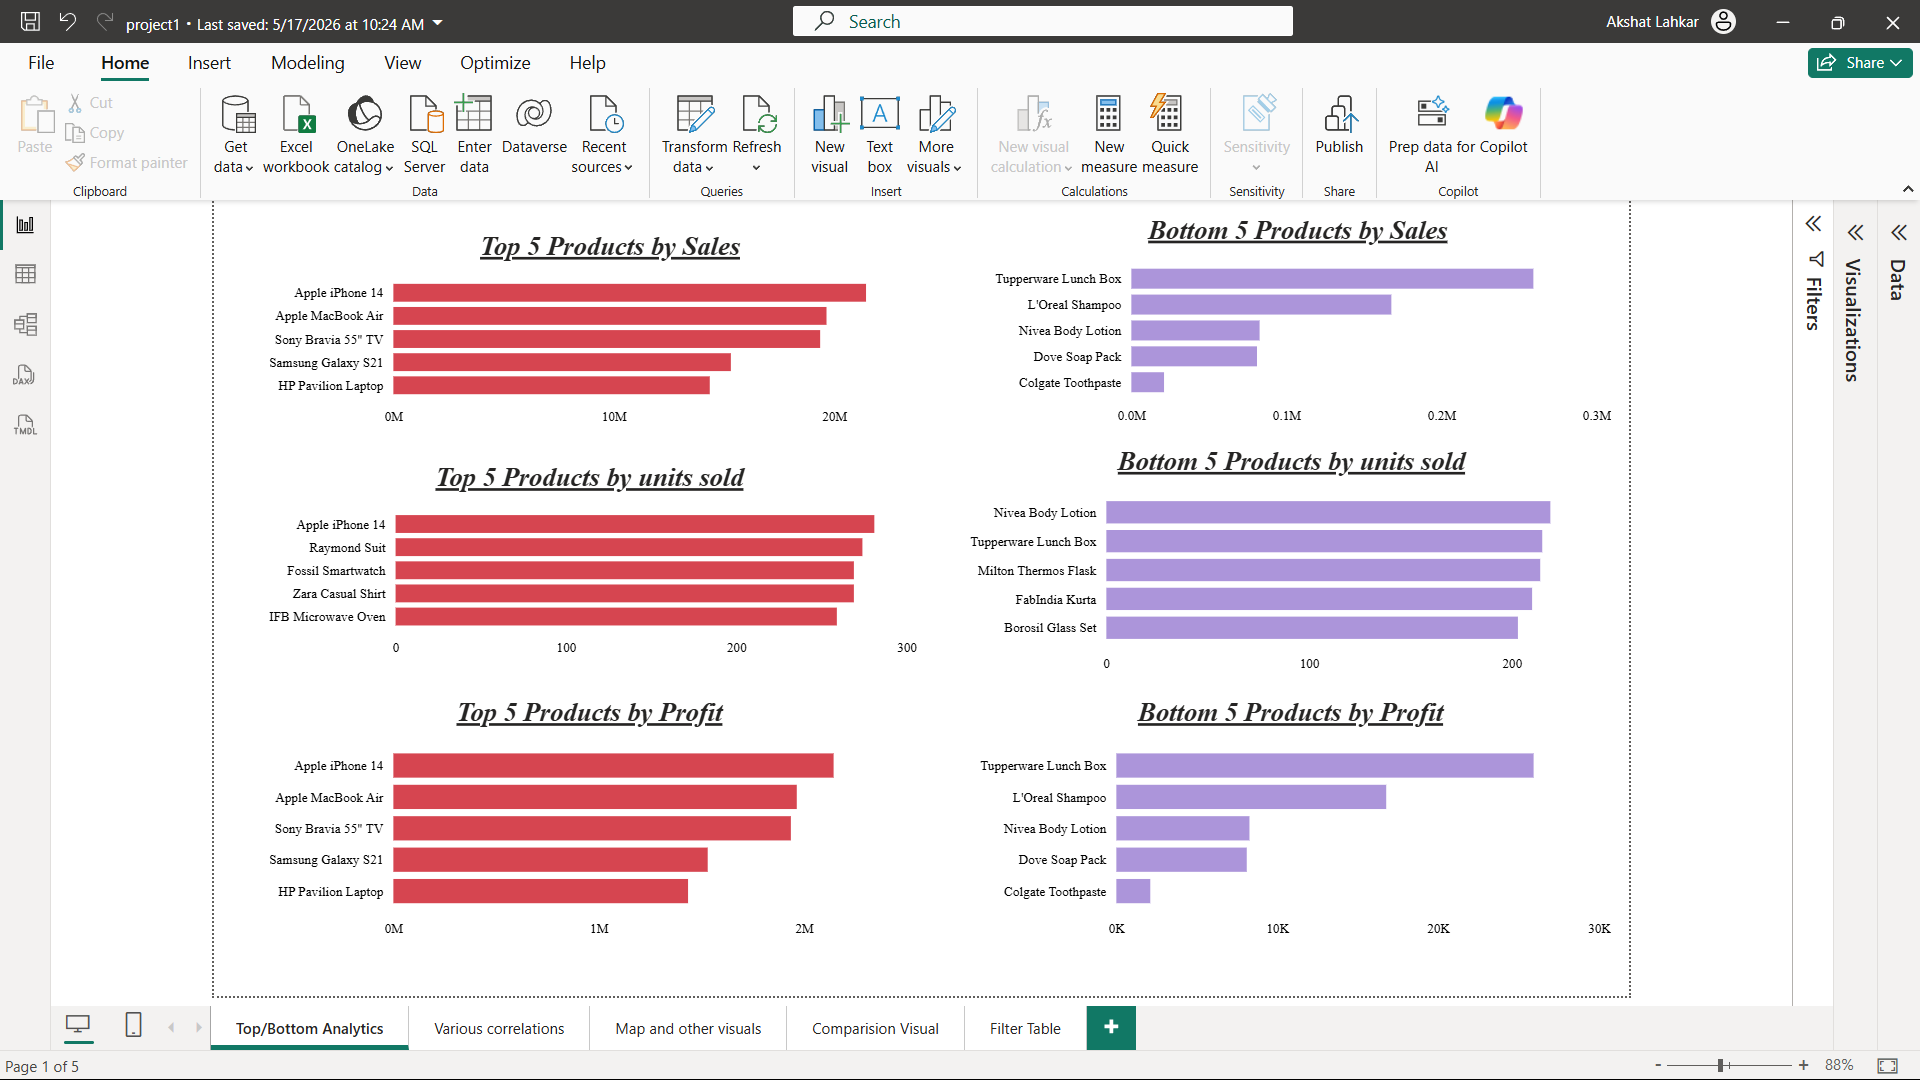

Layout of this report page (visuals, bound fields, positions):
{"tool":"powerbi","page":{"name":"TOP/BOTTOM ANALYSIS","canvas":[1280,720],"ordinal":0},"visuals":[{"type":"barChart","title":"Top 5 Products by Sales","fields":{"Category":["Dim Product.Product Name"],"Y":["Sum(Fct table.Net Sales)"]},"box":[38.4,27.9,639.5,182.6],"z":0},{"type":"barChart","title":"Top 5 Products by units sold","fields":{"Category":["Dim Product.Product Name"],"Y":["Sum(Fct table.Units Sold)"]},"box":[38.4,237.2,602.3,182.6],"z":1000},{"type":"barChart","title":"Bottom 5 Products by Sales","fields":{"Category":["Dim Product.Product Name"],"Y":["Sum(Fct table.Net Sales)"]},"box":[691.9,14,576.7,196.5],"z":2000},{"type":"barChart","title":"Bottom 5 Products by units sold ","fields":{"Category":["Dim Product.Product Name"],"Y":["Sum(Fct table.Units Sold)"]},"box":[669.8,223.3,610.5,211.6],"z":3000},{"type":"barChart","title":"Top 5 Products by Profit","fields":{"Category":["Dim Product.Product Name"],"Y":["Sum(Fct table.Profit)"]},"box":[38.4,450,602.3,224.4],"z":4000},{"type":"barChart","title":"Bottom 5 Products by Profit","fields":{"Category":["Dim Product.Product Name"],"Y":["Sum(Fct table.Profit)"]},"box":[677.9,450,590.7,224.4],"z":5000}]}

Visuals, with their boxes on the page's 1280x720 design canvas (x1, y1, x2, y2). These are canvas units, not pixel positions in the 1920x1080 screenshot, which may show the page scaled, cropped or inside an application window:
"Top 5 Products by Sales" barChart: 38, 28, 678, 210
"Top 5 Products by units sold" barChart: 38, 237, 641, 420
"Bottom 5 Products by Sales" barChart: 692, 14, 1269, 210
"Bottom 5 Products by units sold " barChart: 670, 223, 1280, 435
"Top 5 Products by Profit" barChart: 38, 450, 641, 674
"Bottom 5 Products by Profit" barChart: 678, 450, 1269, 674
